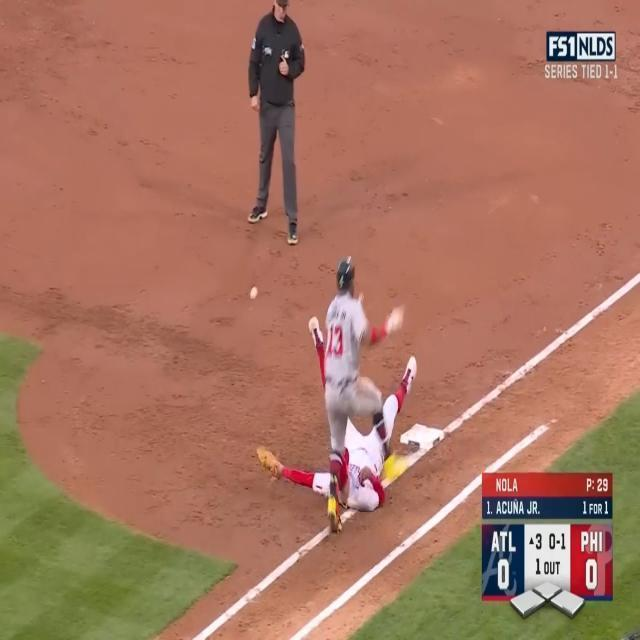ball: (249, 285, 259, 301)
